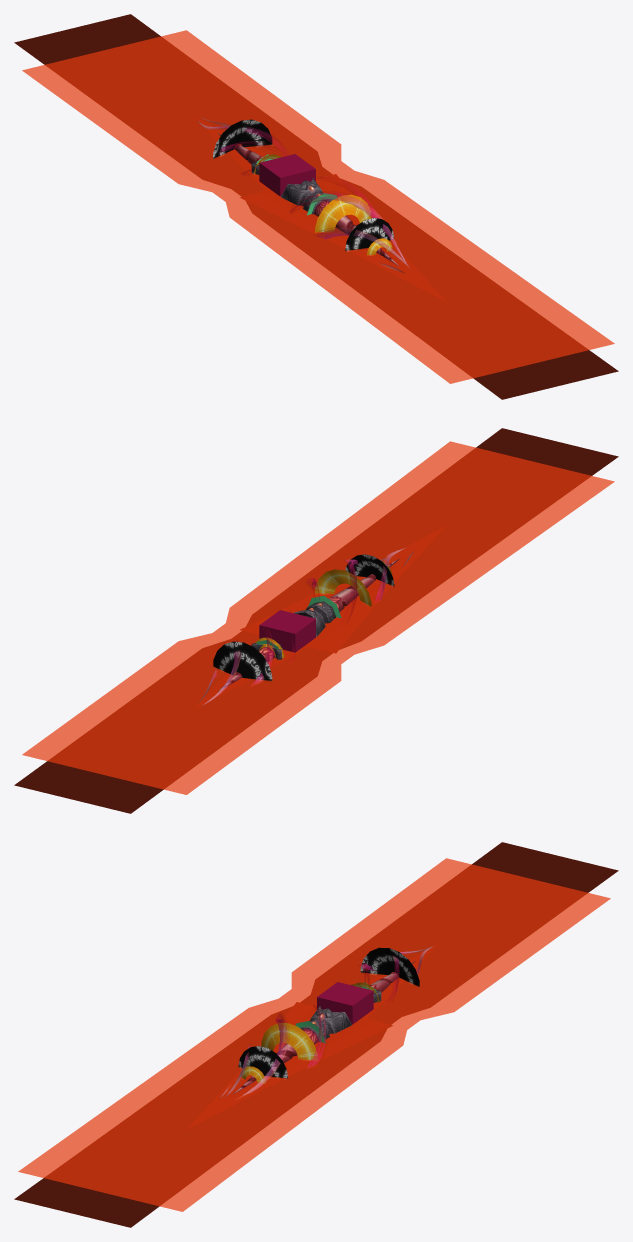
The picture shows the model from 3 angles, top to bottom: view 1: azimuth 30°, elevation 25°; view 2: azimuth 150°, elevation 25°; view 3: azimuth 330°, elevation 25°; orthographic projection.
Parts seen in each view (by area): view 1: "object0060_Editable Mesh", "object0037_Editable Mesh", "object0025_Editable Poly", object0004_W188, object0233_Box, "object0051_Editable Poly", "object0115_Editable Poly", "object0143_Editable Poly", "object0218_Editable Poly", object0200_Plane06, "object0206_W188 Light", object0203_Plane02; view 2: "object0060_Editable Mesh", "object0037_Editable Mesh", "object0025_Editable Poly", object0233_Box, "object0115_Editable Poly", object0004_W188, "object0051_Editable Poly", "object0143_Editable Poly", "object0218_Editable Poly", "object0206_W188 Light"; view 3: "object0060_Editable Mesh", "object0037_Editable Mesh", "object0025_Editable Poly", object0004_W188, object0233_Box, "object0051_Editable Poly", "object0115_Editable Poly", "object0143_Editable Poly", "object0218_Editable Poly", "object0206_W188 Light", object0200_Plane06.
Part boxes in pixels (left/top/right/bottom): "object0060_Editable Mesh": left=22, top=30, right=614, bottom=383; "object0037_Editable Mesh": left=14, top=14, right=618, bottom=399; "object0025_Editable Poly": left=240, top=174, right=445, bottom=301; object0004_W188: left=219, top=134, right=398, bottom=265; object0233_Box: left=259, top=154, right=315, bottom=196; "object0051_Editable Poly": left=195, top=117, right=406, bottom=271; "object0115_Editable Poly": left=213, top=119, right=272, bottom=159; "object0143_Editable Poly": left=315, top=194, right=371, bottom=232; "object0218_Editable Poly": left=345, top=218, right=394, bottom=251; object0200_Plane06: left=289, top=192, right=406, bottom=263; "object0206_W188 Light": left=217, top=133, right=399, bottom=266; object0203_Plane02: left=315, top=227, right=409, bottom=267; "object0060_Editable Mesh": left=22, top=441, right=614, bottom=794; "object0037_Editable Mesh": left=14, top=428, right=618, bottom=813; "object0025_Editable Poly": left=240, top=526, right=445, bottom=652; object0233_Box: left=259, top=610, right=315, bottom=652; "object0115_Editable Poly": left=213, top=641, right=272, bottom=681; object0004_W188: left=219, top=559, right=398, bottom=690; "object0051_Editable Poly": left=195, top=554, right=405, bottom=708; "object0143_Editable Poly": left=315, top=569, right=371, bottom=607; "object0218_Editable Poly": left=345, top=554, right=394, bottom=587; "object0206_W188 Light": left=217, top=558, right=399, bottom=692; "object0060_Editable Mesh": left=18, top=858, right=610, bottom=1211; "object0037_Editable Mesh": left=14, top=842, right=618, bottom=1227; "object0025_Editable Poly": left=187, top=1002, right=392, bottom=1129; object0004_W188: left=234, top=962, right=413, bottom=1093; object0233_Box: left=317, top=982, right=373, bottom=1024; "object0051_Editable Poly": left=226, top=945, right=437, bottom=1099; "object0115_Editable Poly": left=360, top=947, right=419, bottom=987; "object0143_Editable Poly": left=261, top=1023, right=317, bottom=1060; "object0218_Editable Poly": left=238, top=1046, right=288, bottom=1079; "object0206_W188 Light": left=233, top=961, right=415, bottom=1094; object0200_Plane06: left=242, top=1014, right=288, bottom=1095.
Size of the model in its own units: 1.38 by 0.6353 by 7.06.
